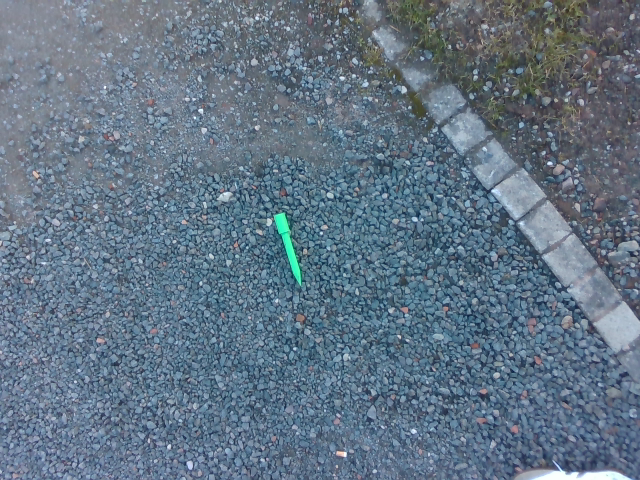Probe: (271, 205, 303, 290)
